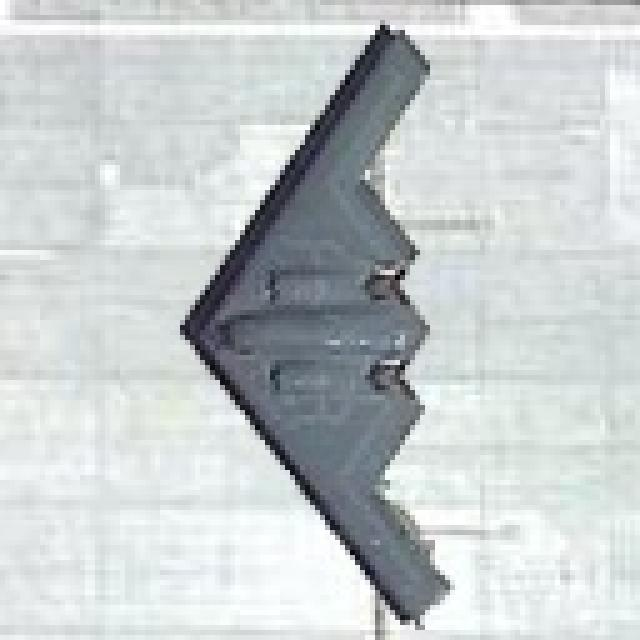B-2_TopDown: (175, 15, 455, 630)
